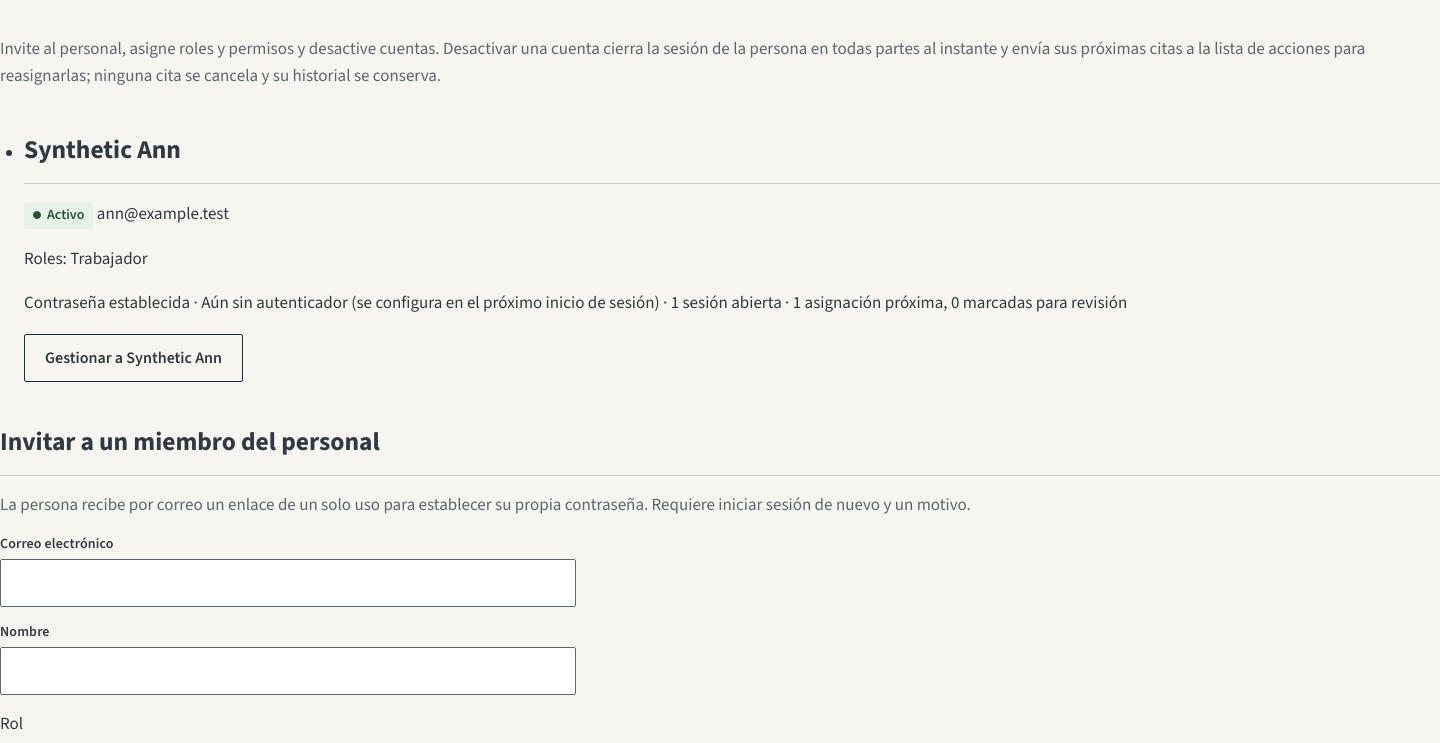
Test: [HH-STAFF-07][HH-STAFF-02] the Staff screen › [HH-STAFF-02][T27] disabling asks for confirmation, says what happens and reports the flagged appointments
Step 1. Click the button "Gestionar a Synthetic Ann" → (134, 358), box x1=24 y1=334 x2=243 y2=382
(page scrolled)
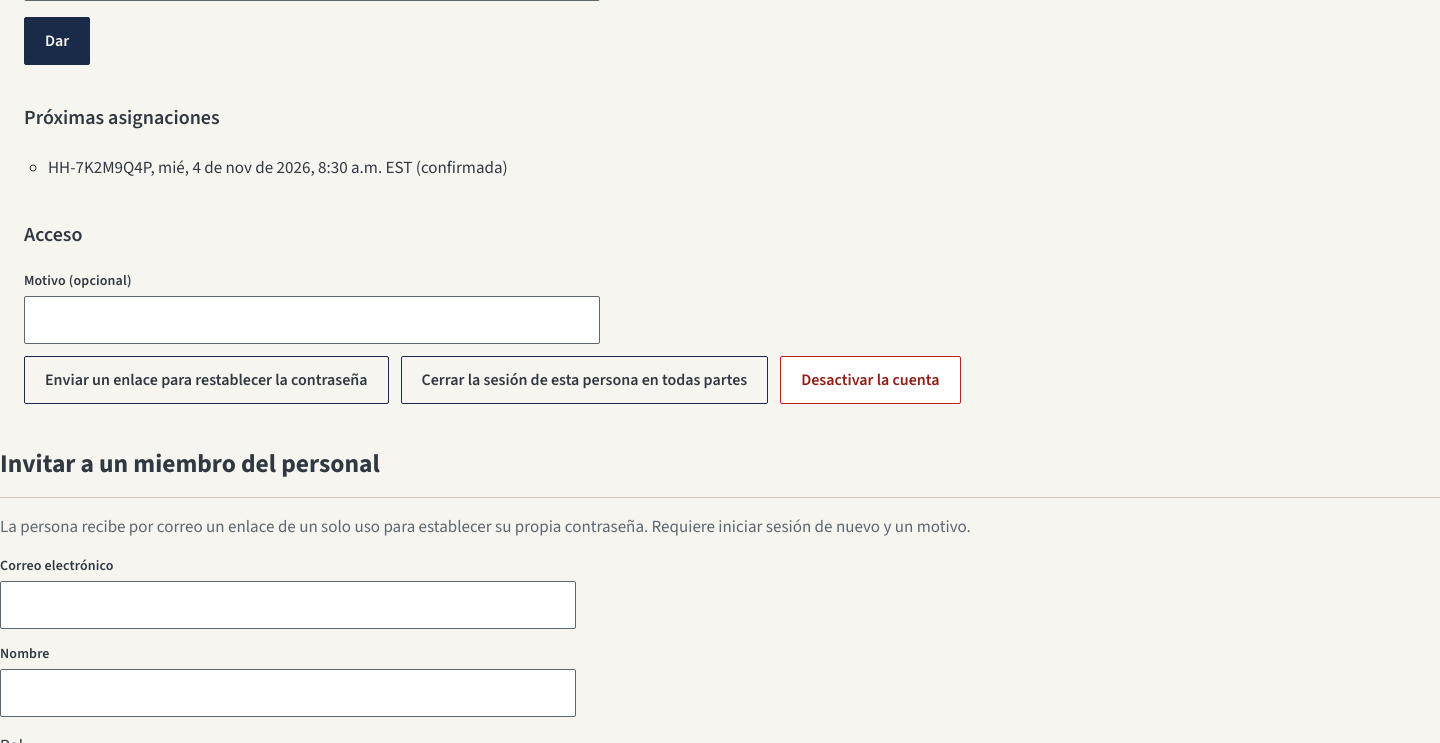
Step 2. Click the button "Desactivar la cuenta" → (870, 380), box x1=780 y1=356 x2=960 y2=404
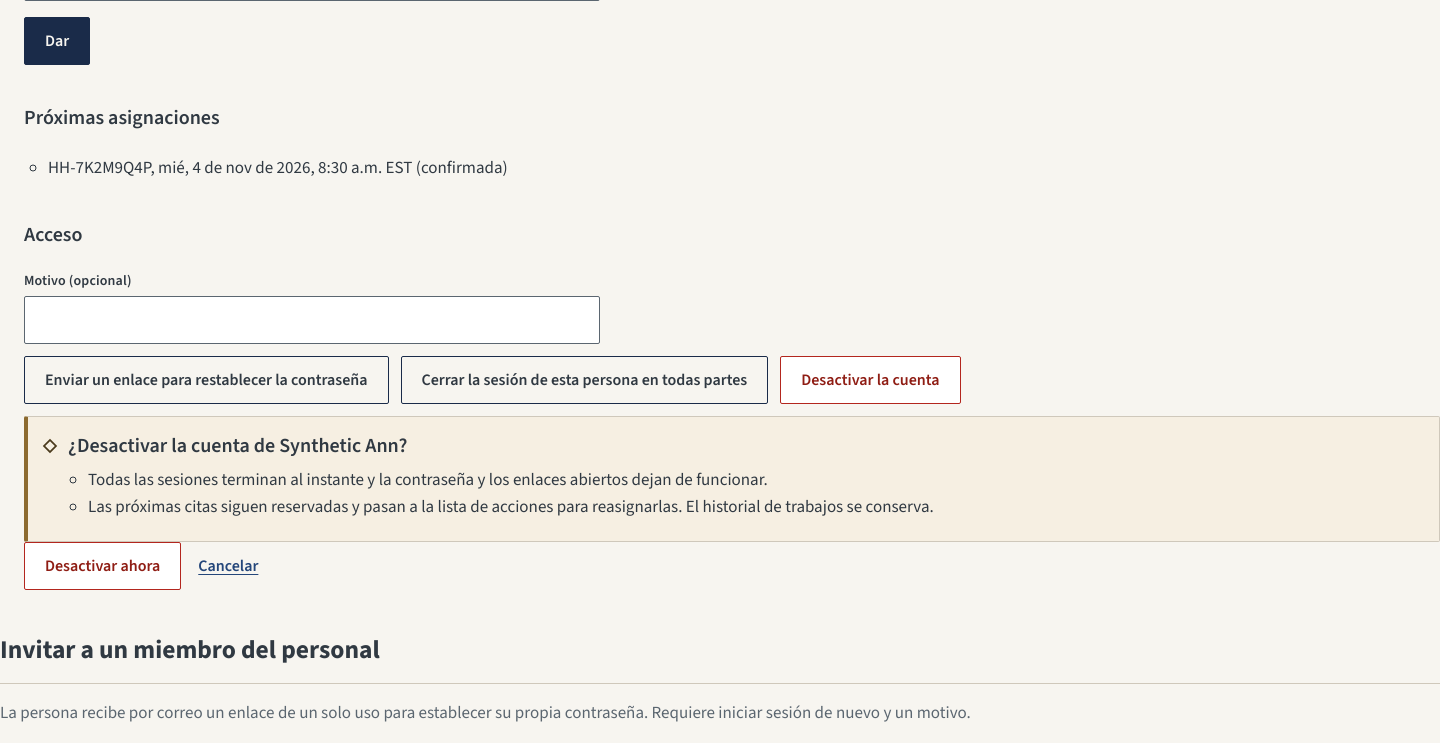
Result: the element with test id "staff-disable-confirm" shows "Las próximas citas siguen reservadas" at x1=88 y1=495 x2=934 y2=519
Step 3. Click the button "Desactivar ahora" → (103, 566), box x1=24 y1=542 x2=181 y2=590
(page scrolled)
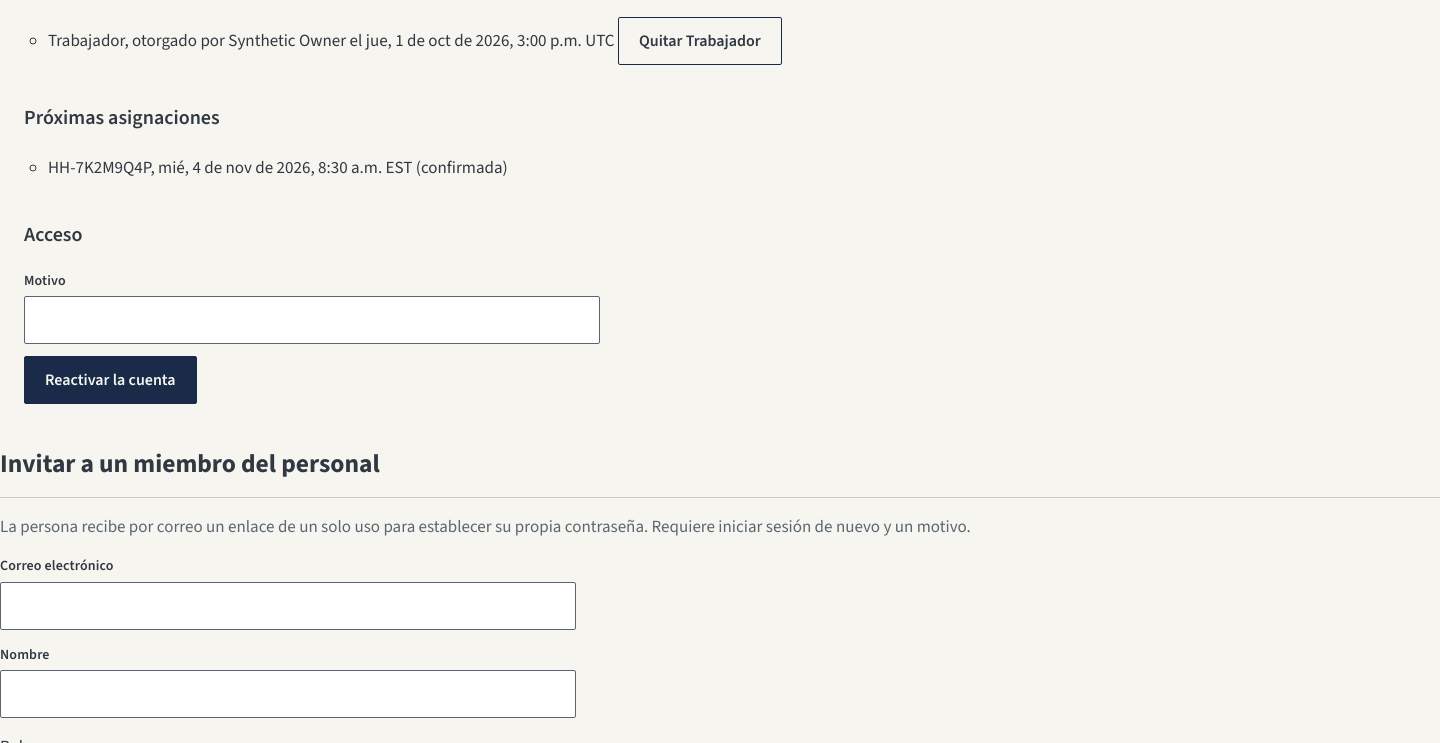
Result: the button "Reactivar la cuenta" is shown at x1=24 y1=356 x2=197 y2=404
